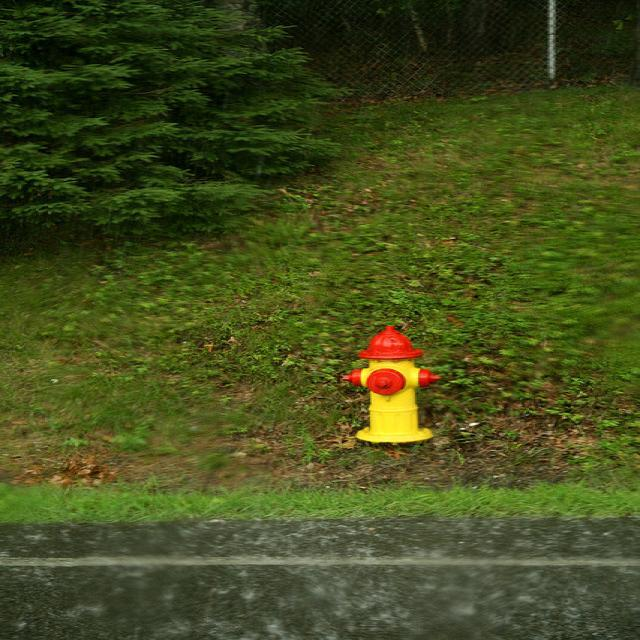fire_hydrant: (340, 325, 440, 445)
